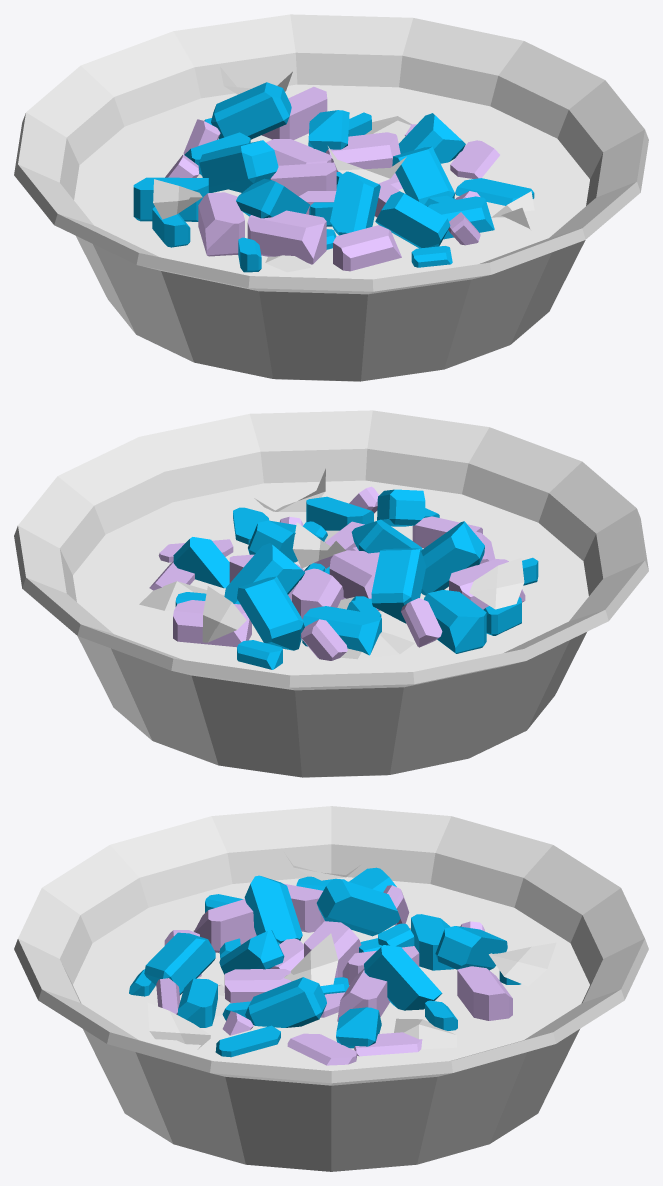
The model's file is FrenchOnionSoup.fbx.
3 views of the same model, one above another, from view 1: azimuth 30°, elevation 25°; view 2: azimuth 150°, elevation 25°; view 3: azimuth 270°, elevation 25° (orthographic).
Visible parts, largest first — view 1: Circle.014, Circle.015, Potato - Chopped.003, Potato - Chopped (2).002, Potato - Chopped (1).004, Potato - Chopped.002, Herbs, Plane.004; view 2: Circle.014, Circle.015, Potato - Chopped.003, Potato - Chopped (2).002, Potato - Chopped (1).004, Potato - Chopped.002, Herbs, Plane.004; view 3: Circle.014, Circle.015, Potato - Chopped.003, Potato - Chopped (2).002, Potato - Chopped (1).004, Potato - Chopped.002, Herbs, Plane.004.
Boxes of the visible parts, bbox=[...] form: Circle.014: bbox=[14, 14, 648, 381]; Circle.015: bbox=[74, 84, 589, 279]; Potato - Chopped.003: bbox=[133, 140, 336, 272]; Potato - Chopped (2).002: bbox=[183, 82, 400, 192]; Potato - Chopped (1).004: bbox=[299, 171, 494, 271]; Potato - Chopped.002: bbox=[379, 113, 534, 205]; Herbs: bbox=[153, 66, 534, 230]; Plane.004: bbox=[197, 116, 411, 272]; Circle.014: bbox=[14, 410, 648, 777]; Circle.015: bbox=[73, 480, 588, 675]; Potato - Chopped.003: bbox=[329, 521, 538, 653]; Potato - Chopped (2).002: bbox=[173, 543, 381, 669]; Potato - Chopped (1).004: bbox=[303, 486, 482, 574]; Potato - Chopped.002: bbox=[149, 507, 323, 590]; Herbs: bbox=[202, 468, 524, 642]; Plane.004: bbox=[139, 530, 414, 659]; Circle.014: bbox=[14, 806, 648, 1171]; Circle.015: bbox=[73, 877, 589, 1070]; Potato - Chopped.003: bbox=[194, 867, 414, 977]; Potato - Chopped (2).002: bbox=[320, 914, 520, 1030]; Potato - Chopped (1).004: bbox=[129, 930, 303, 1027]; Potato - Chopped.002: bbox=[215, 977, 422, 1065]; Herbs: bbox=[147, 852, 556, 1049]; Plane.004: bbox=[193, 928, 456, 1049].
Size of the model in its own units: 59.99 by 17.79 by 59.99.
